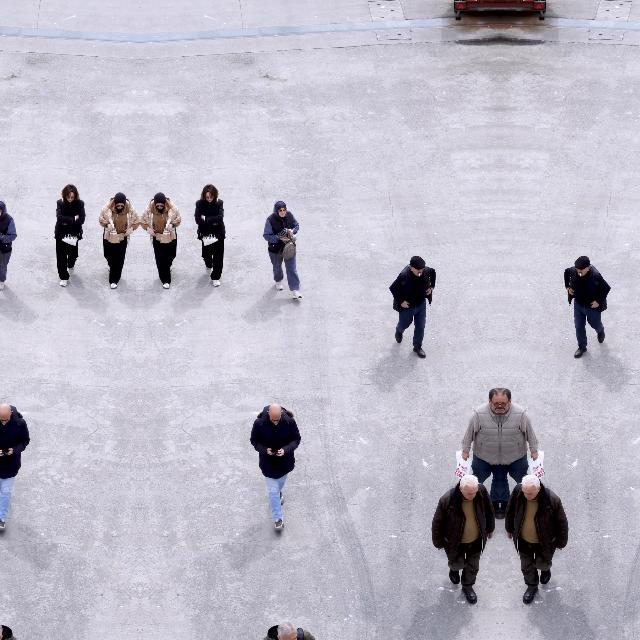person: (432, 474, 496, 604), (504, 474, 568, 604), (250, 403, 302, 533), (460, 388, 500, 520), (500, 388, 540, 520), (389, 255, 436, 358), (564, 255, 610, 358), (140, 192, 182, 290), (99, 192, 140, 290), (262, 200, 302, 300), (0, 403, 30, 533), (194, 185, 226, 288), (54, 185, 86, 288), (0, 200, 17, 299), (264, 622, 316, 640), (0, 622, 16, 640)
